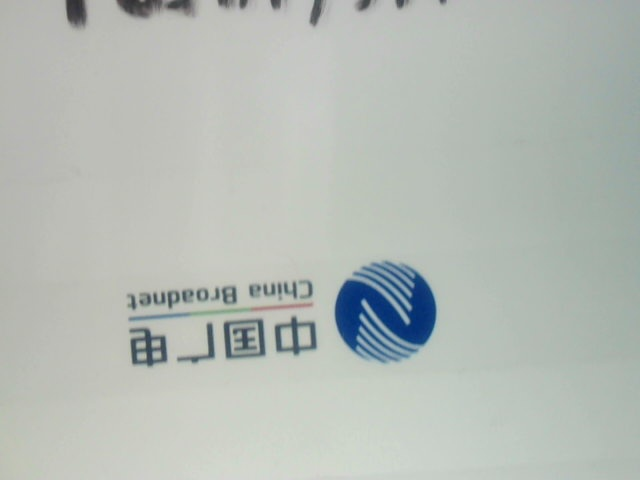AW_ChinaBroadNet: (116, 257, 457, 370)
